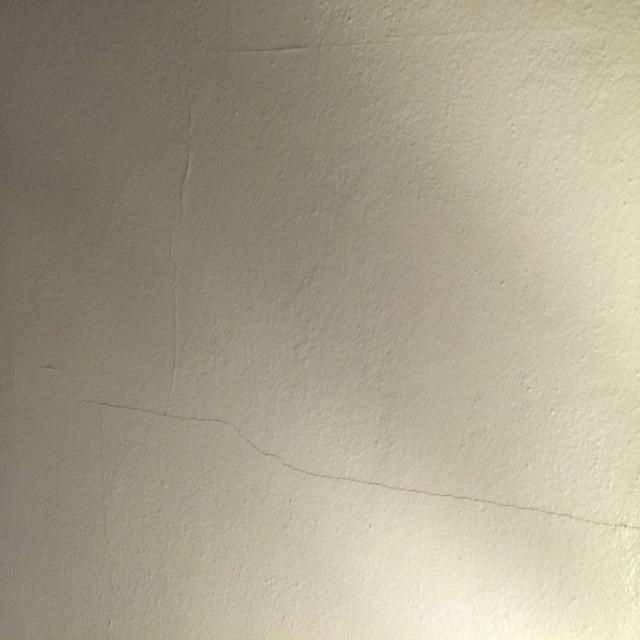Crack: (164, 411, 640, 532), (162, 41, 197, 415), (88, 391, 164, 414), (32, 356, 70, 372)
